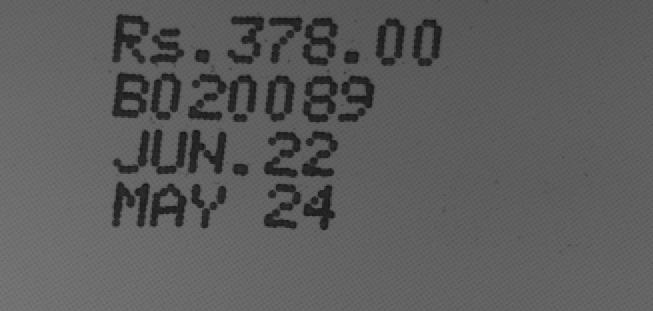.: (189, 40, 219, 69), (229, 155, 256, 183), (340, 43, 367, 69)
0: (372, 15, 409, 68), (409, 16, 446, 69), (148, 71, 185, 124), (224, 72, 261, 125), (261, 73, 298, 126)
2: (184, 72, 229, 123), (260, 129, 305, 180), (298, 129, 343, 180), (260, 180, 305, 231)
3: (223, 14, 266, 67)
4: (299, 182, 342, 233)
7: (264, 15, 306, 67)
8: (299, 16, 341, 69), (299, 73, 341, 125)
9: (335, 73, 379, 126)
A: (149, 180, 189, 229)
B: (107, 71, 153, 122)
J: (109, 127, 152, 176)
M: (108, 179, 152, 230)
N: (186, 127, 228, 178)
R: (110, 13, 153, 68)
S: (148, 25, 190, 66)
U: (148, 127, 190, 177)
Y: (186, 181, 229, 233)
